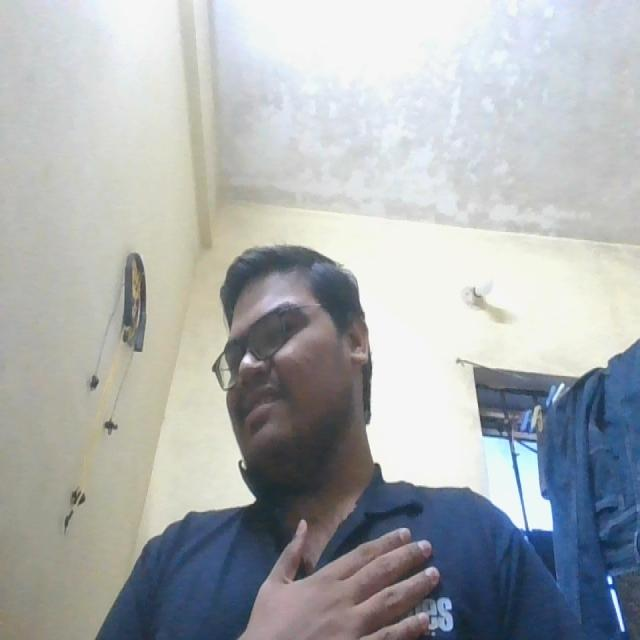Please: (261, 519, 439, 640)
